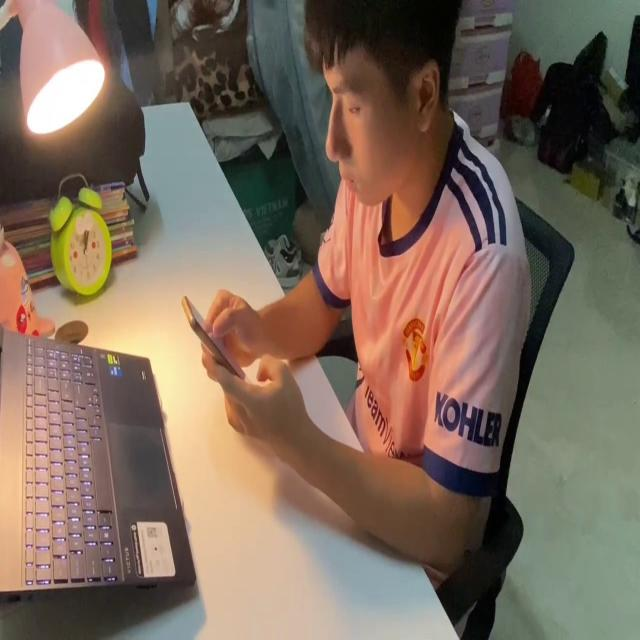laptop: (0, 312, 197, 603)
phone: (182, 291, 252, 385)
student: (196, 0, 524, 579)
